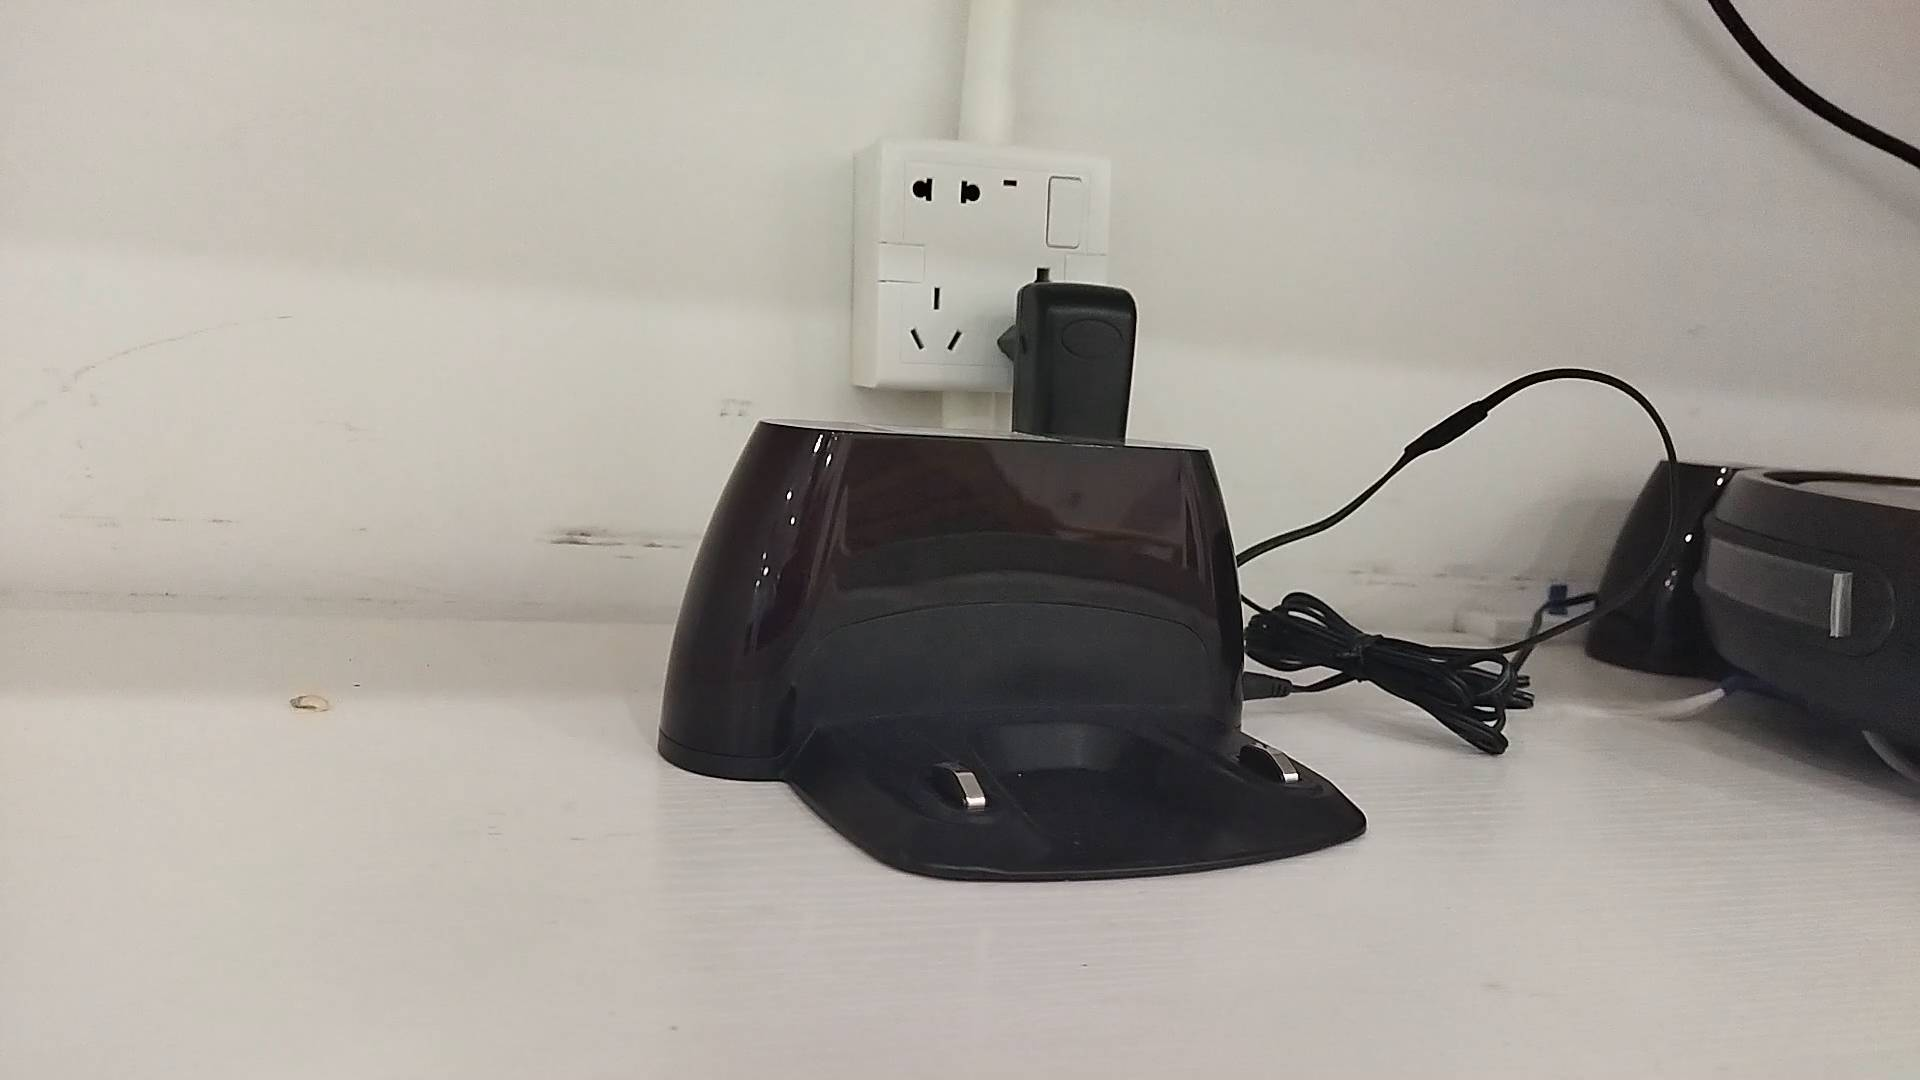recharge seat: (658, 417, 1367, 882)
